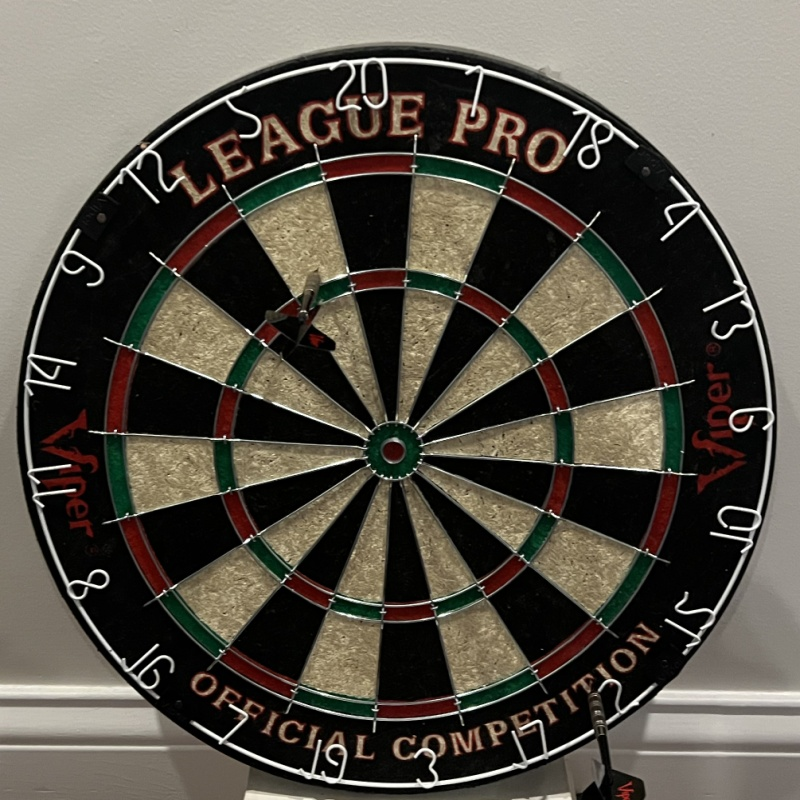dart: (584, 688, 605, 711), (307, 266, 326, 286)
eleven: (26, 463, 79, 507)
six: (728, 407, 776, 433)
three: (414, 747, 439, 787)
twenty: (330, 57, 389, 111)
